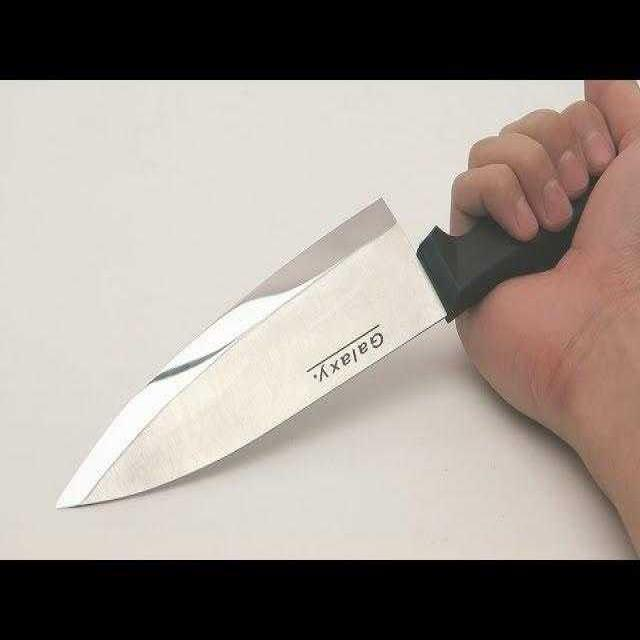knife: (52, 153, 599, 517)
